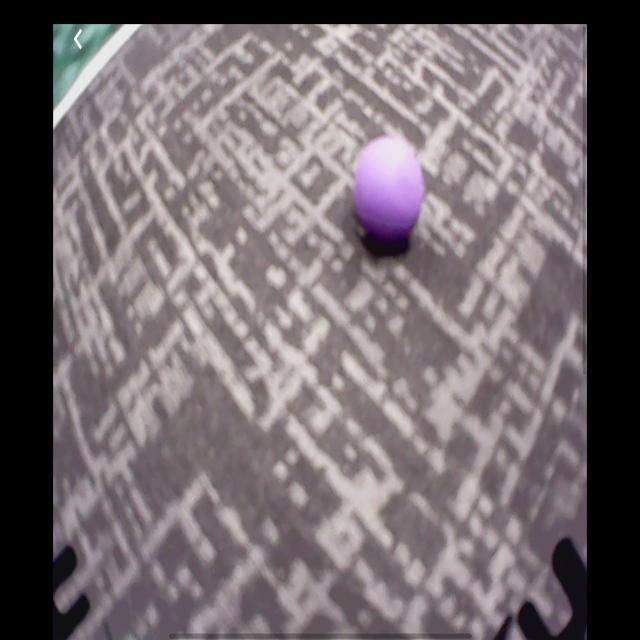ball: (355, 136, 424, 242)
